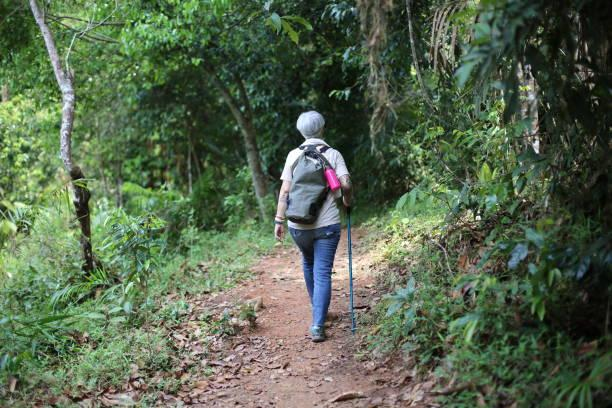Human: (267, 95, 356, 346)
